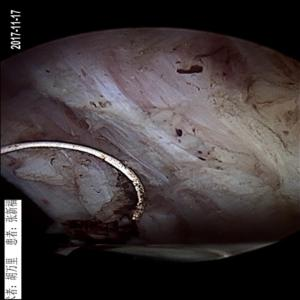film: (76, 43, 294, 201)
